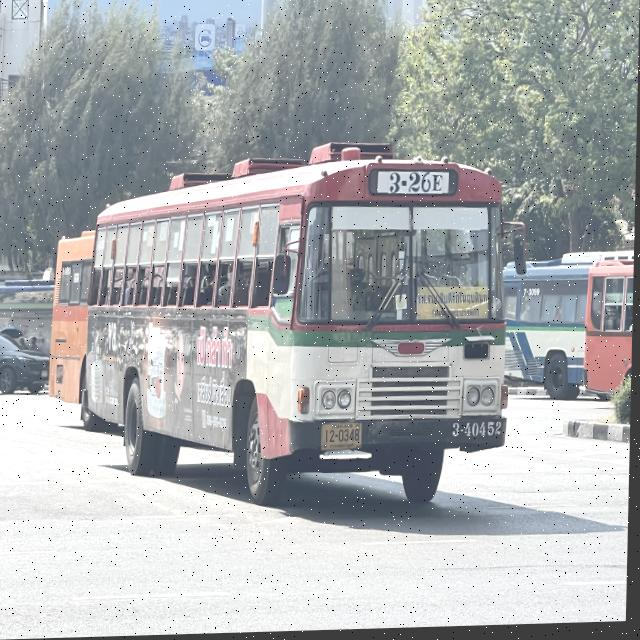BMTA-bus: (80, 141, 515, 517), (47, 230, 95, 408)
Bus-Line-Number: (370, 162, 461, 204)
Destination-Sign-Normal-Expressway: (417, 286, 492, 324)
